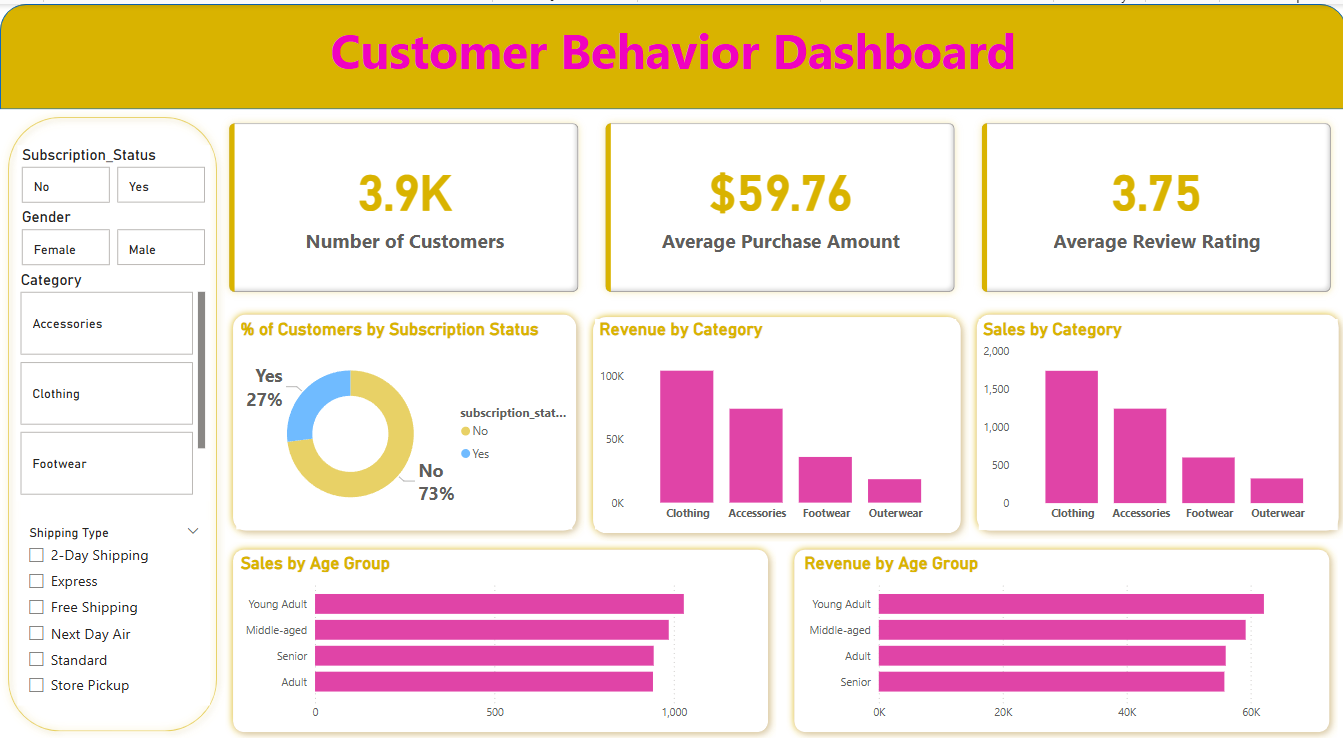

This screenshot's page, from the dashboard's own definition file:
{"tool":"powerbi","page":{"name":"Page 1","canvas":[1500,820],"ordinal":0},"visuals":[{"type":"shape","box":[250.7,598.8,614.2,221.4],"z":1500},{"type":"shape","box":[876,598.8,614.2,221.4],"z":1750},{"type":"cardVisual","fields":{"Data":["customer_behavior customer.Number of Customers","customer_behavior customer.Average Purchase Amount","customer_behavior customer.Average Review Rating"]},"box":[239.6,117.4,1260.7,220.3],"z":2000},{"type":"shape","box":[0,0,1500.3,117.4],"z":3000},{"type":"textbox","box":[0,9.6,1500.3,94.9],"z":4000},{"type":"shape","box":[250.9,337.7,400.4,258.9],"z":5000},{"type":"donutChart","title":"% of Customers by Subscription Status","fields":{"Category":["customer_behavior customer.subscription_status"],"Y":["CountNonNull(customer_behavior customer.customer_id)"]},"box":[263.7,350.6,374.7,234.8],"z":6000},{"type":"shape","box":[651.3,339.3,427.7,258.9],"z":7000},{"type":"shape","box":[1078.7,337.7,421.3,258.9],"z":8000},{"type":"clusteredColumnChart","title":"Revenue by Category","fields":{"Y":["Sum(customer_behavior customer.purchase_amount)"],"Category":["customer_behavior customer.category"]},"box":[662.5,350.6,402,234.8],"z":9000},{"type":"clusteredColumnChart","title":"Sales by Category","fields":{"Y":["CountNonNull(customer_behavior customer.customer_id)"],"Category":["customer_behavior customer.category"]},"box":[1090.5,351,399.7,235.4],"z":10000},{"type":"shape","box":[0,117.4,250.9,702.7],"z":11000},{"type":"advancedSlicerVisual","fields":{"Values":["customer_behavior customer.subscription_status"]},"box":[19.5,157.4,214.5,69.6],"z":12000},{"type":"advancedSlicerVisual","fields":{"Values":["customer_behavior customer.gender"]},"box":[19.5,227,214.5,69.6],"z":13000},{"type":"advancedSlicerVisual","fields":{"Values":["customer_behavior customer.category"]},"box":[18.1,296.6,215.9,257.6],"z":14000},{"type":"slicer","fields":{"Values":["customer_behavior customer.shipping_type"]},"box":[19.5,575.2,214.5,206.1],"z":15000},{"type":"clusteredBarChart","title":"Revenue by Age Group","fields":{"Y":["Sum(customer_behavior customer.purchase_amount)"],"Category":["customer_behavior customer.age_group"]},"box":[891.3,611.4,586.3,196.4],"z":16000},{"type":"clusteredBarChart","title":"Sales by Age Group","fields":{"Y":["CountNonNull(customer_behavior customer.customer_id)"],"Category":["customer_behavior customer.age_group"]},"box":[263.2,611.4,587.7,196.4],"z":17000}]}

Visuals, with their boxes in screenshot pixels (x1, y1, x2, y2), scaled from the page's 1500x820 canvas onto the 1343x738 screenshot:
shape: [x1=224, y1=539, x2=774, y2=737]
shape: [x1=784, y1=539, x2=1334, y2=737]
cardVisual - customer_behavior customer.Number of Customers x customer_behavior customer.Average Purchase Amount: [x1=215, y1=106, x2=1342, y2=304]
shape: [x1=0, y1=0, x2=1342, y2=106]
textbox: [x1=0, y1=9, x2=1342, y2=94]
shape: [x1=225, y1=304, x2=583, y2=537]
"% of Customers by Subscription Status" donutChart: [x1=236, y1=316, x2=572, y2=527]
shape: [x1=583, y1=305, x2=966, y2=538]
shape: [x1=966, y1=304, x2=1342, y2=537]
"Revenue by Category" clusteredColumnChart: [x1=593, y1=316, x2=953, y2=527]
"Sales by Category" clusteredColumnChart: [x1=976, y1=316, x2=1334, y2=528]
shape: [x1=0, y1=106, x2=225, y2=737]
advancedSlicerVisual - customer_behavior customer.subscription_status: [x1=17, y1=142, x2=210, y2=204]
advancedSlicerVisual - customer_behavior customer.gender: [x1=17, y1=204, x2=210, y2=267]
advancedSlicerVisual - customer_behavior customer.category: [x1=16, y1=267, x2=210, y2=499]
slicer - customer_behavior customer.shipping_type: [x1=17, y1=518, x2=210, y2=703]
"Revenue by Age Group" clusteredBarChart: [x1=798, y1=550, x2=1323, y2=727]
"Sales by Age Group" clusteredBarChart: [x1=236, y1=550, x2=762, y2=727]
